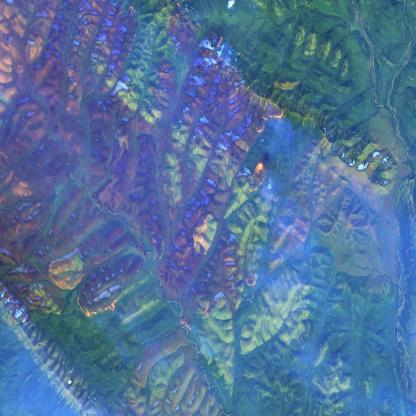fire: (254, 96, 286, 138), (250, 154, 268, 193)
